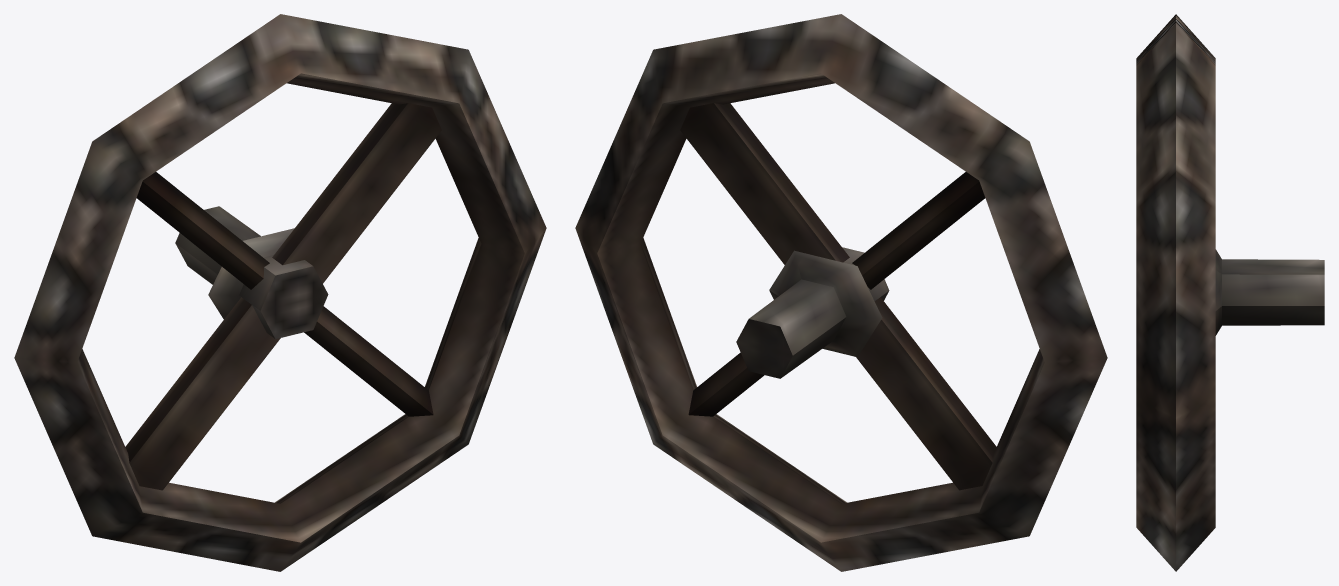
Rendered from SM_EN_2005_guandao04.FBX.
The picture shows the model from 3 angles, left to right: view 1: azimuth 30°, elevation 25°; view 2: azimuth 150°, elevation 25°; view 3: azimuth 270°, elevation 25°; orthographic projection. The views are drawn at different scales.
Parts seen in each view (by area): view 1: SM_EN_2005_guandao04; view 2: SM_EN_2005_guandao04; view 3: SM_EN_2005_guandao04.
Part boxes in pixels (x1=…): SM_EN_2005_guandao04: x1=14, y1=14, x2=546, y2=571; SM_EN_2005_guandao04: x1=575, y1=14, x2=1107, y2=571; SM_EN_2005_guandao04: x1=1136, y1=14, x2=1324, y2=571.
Size of the model in its own units: 17.61 by 17.64 by 5.59.
